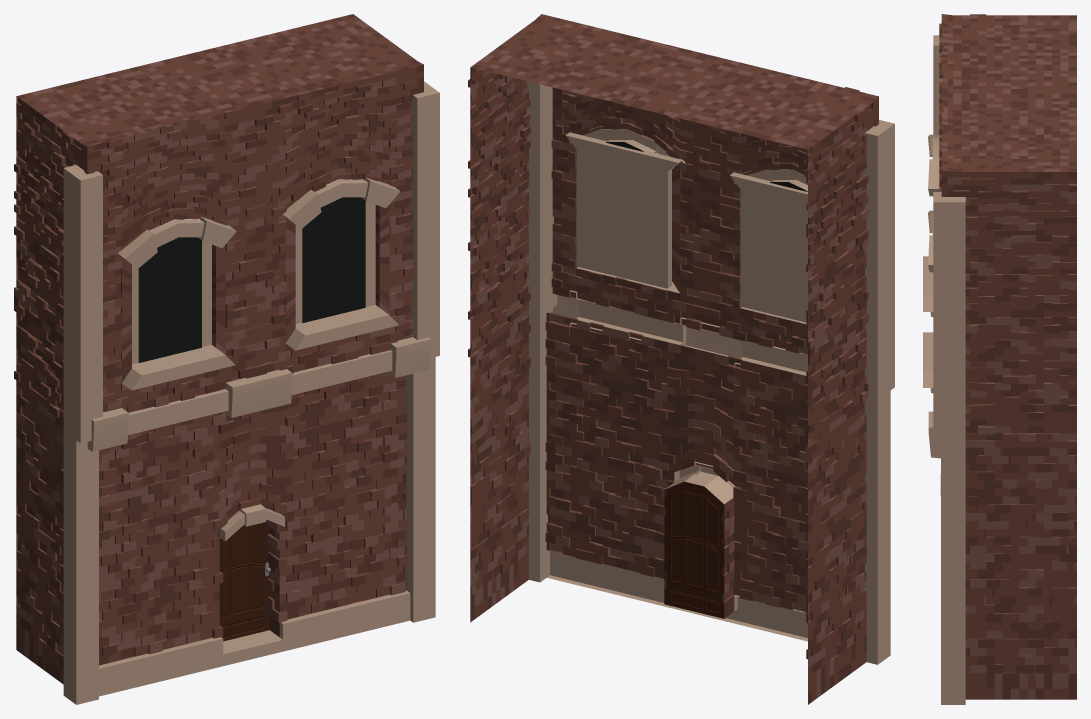
Rendered from Building_1.fbx.
3 views of the same model, side by side, from view 1: azimuth 30°, elevation 25°; view 2: azimuth 150°, elevation 25°; view 3: azimuth 270°, elevation 25° (orthographic). The views are drawn at different scales.
Visible parts, largest first — view 1: Building_1; view 2: Building_1; view 3: Building_1.
Part boxes in pixels (bbox=[...]): Building_1: bbox=[14, 14, 439, 704]; Building_1: bbox=[468, 14, 894, 704]; Building_1: bbox=[923, 14, 1076, 704].
Bounding box in the file's own units: 640 × 945 × 249.
